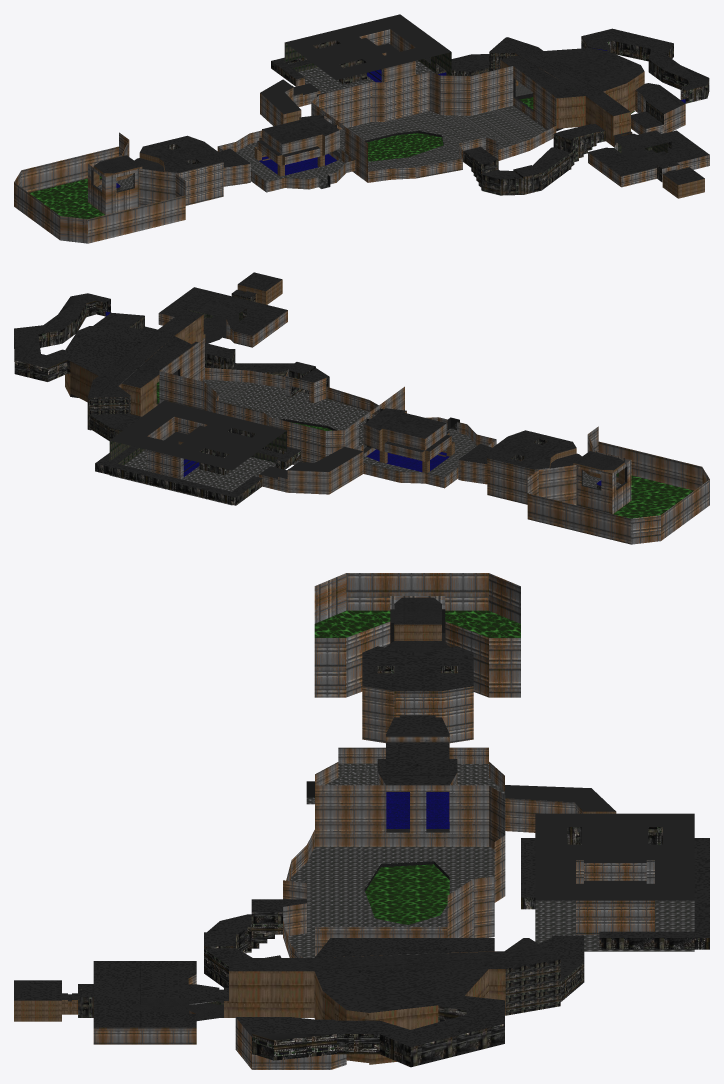
Rendered from HangerModelTextured.fbx.
3 renders of one model, top to bottom at view 1: azimuth 30°, elevation 25°; view 2: azimuth 150°, elevation 25°; view 3: azimuth 270°, elevation 25°, orthographic. The views are drawn at different scales.
Visible parts, largest first — view 1: Hanger; view 2: Hanger; view 3: Hanger.
Boxes of the visible parts, x1,y1,x2,y2 form: Hanger: (14, 14, 709, 243); Hanger: (14, 272, 709, 544); Hanger: (14, 573, 709, 1069).
Size of the model in its own units: 12625 by 1164 by 7768.
8 materials, 8 textured.
